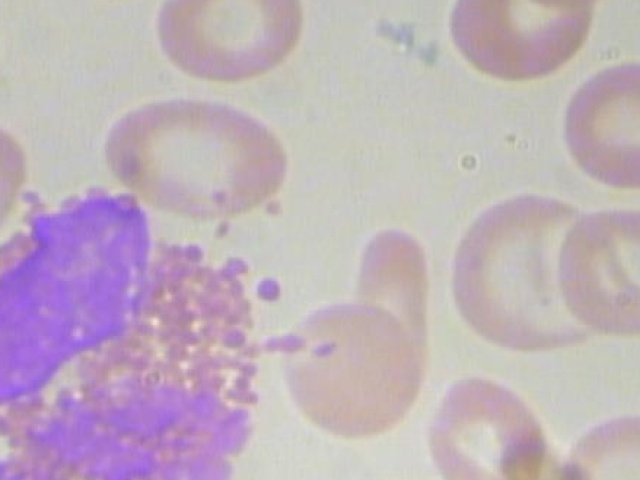RBC: (445, 184, 616, 360), (98, 96, 317, 224), (273, 297, 420, 445), (429, 0, 600, 92), (431, 365, 559, 480), (353, 206, 432, 391), (141, 0, 312, 83), (544, 56, 640, 197), (557, 207, 640, 337), (552, 407, 640, 480), (0, 115, 33, 283)
WBC: (0, 177, 345, 480)
